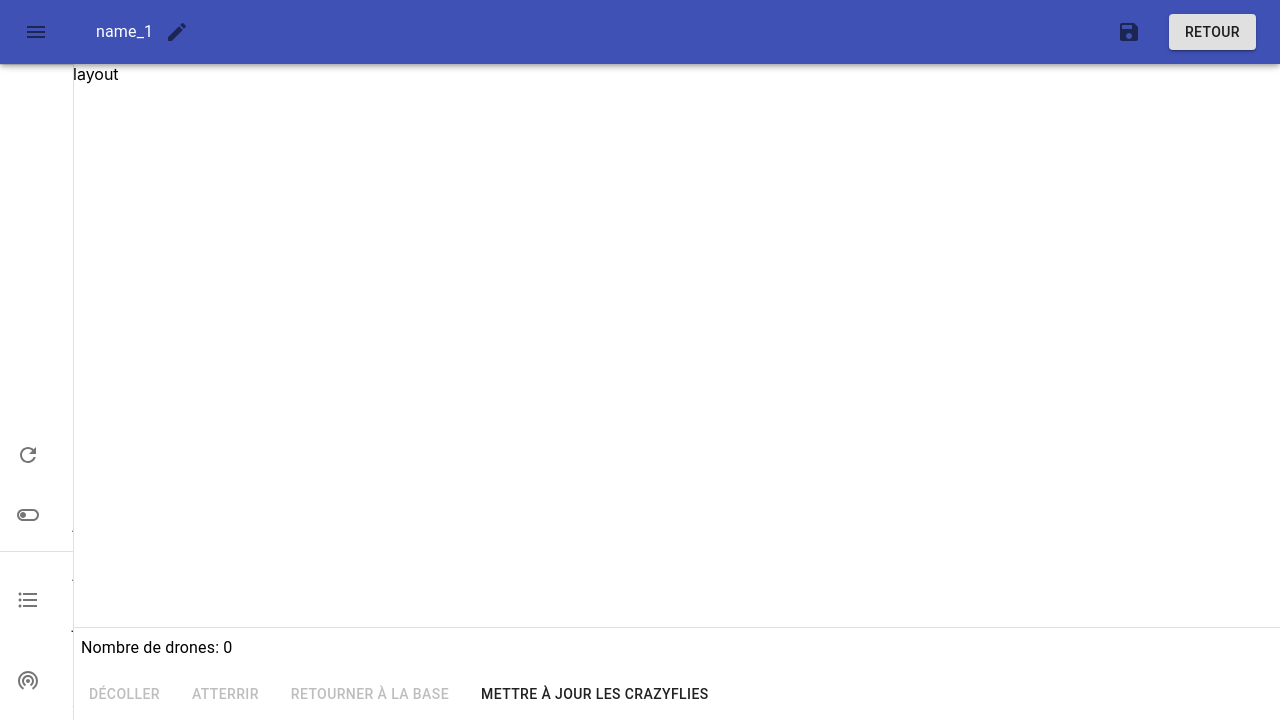
Test: layout › can open go back dialog
The width and height of the screenshot is (1280, 720).
Click the button "Retour" at (1212, 32), box [1169,14,1256,50]
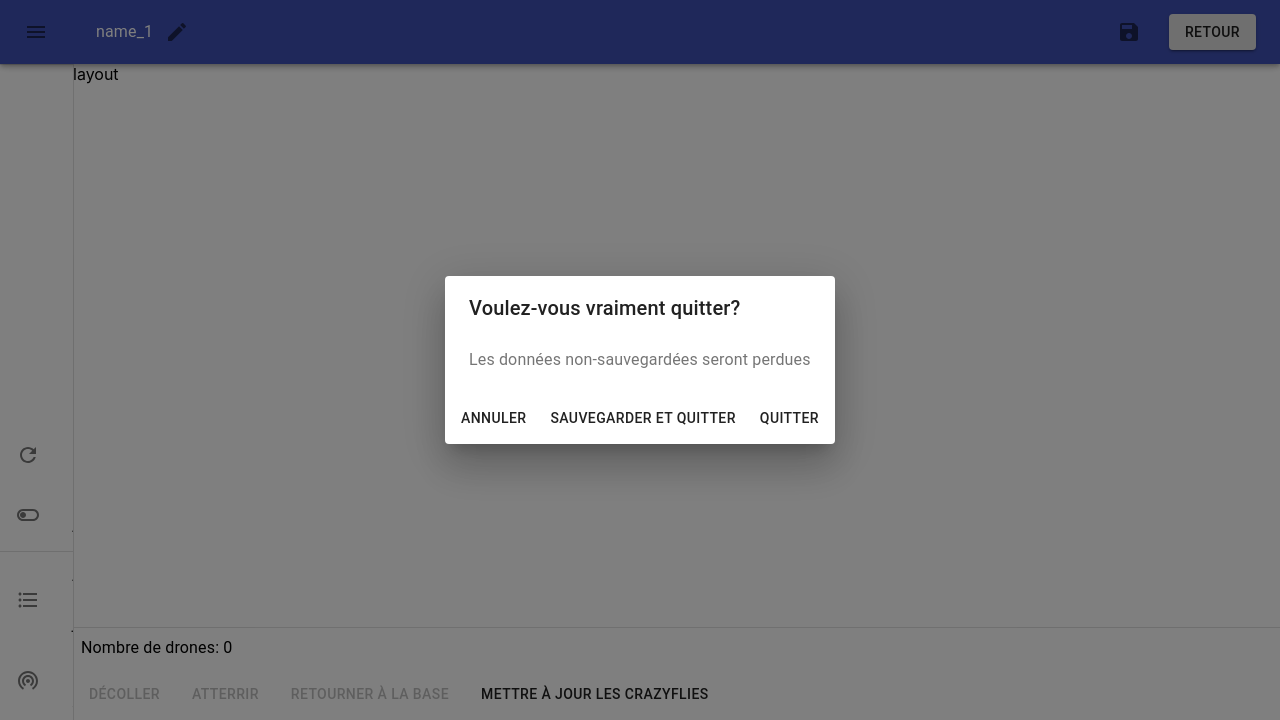
Expected: the dialog is shown, [445,276,835,444]
